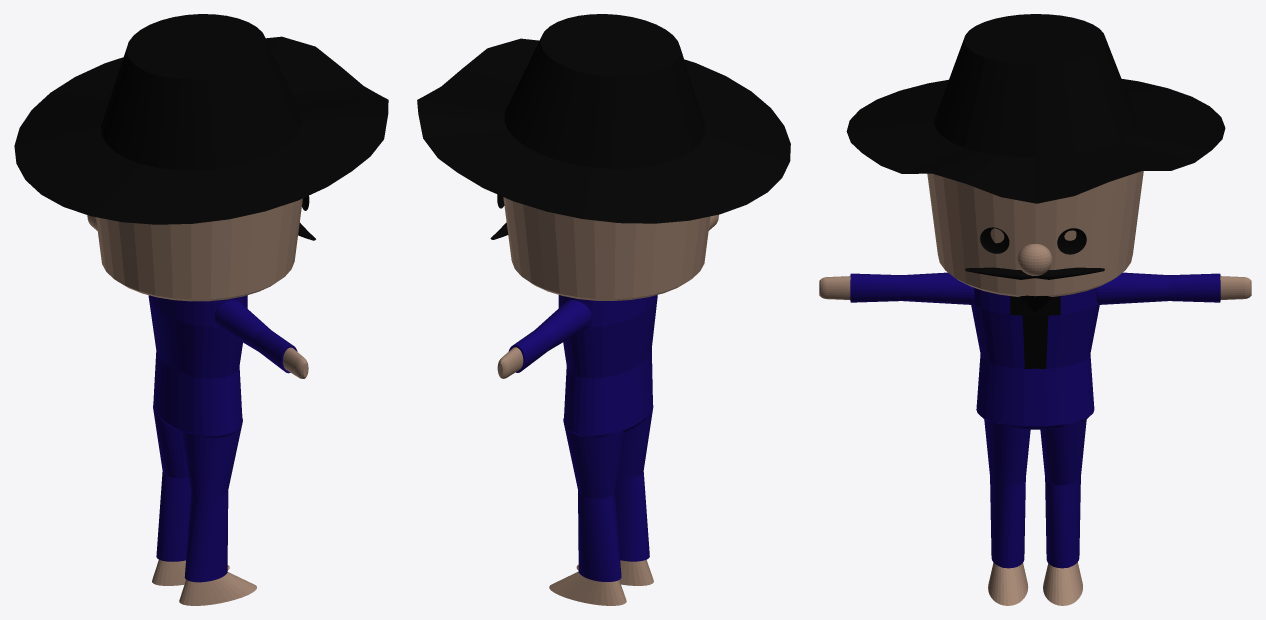
Rendered from blue_goatee_stenston.fbx.
3 views of the same model, side by side, from view 1: azimuth 30°, elevation 25°; view 2: azimuth 150°, elevation 25°; view 3: azimuth 270°, elevation 25° (orthographic).
Parts seen in each view (by area): view 1: Cylinder.015, Headd.002, Cylinder.049, Cylinder.052, Cylinder.053, Cylinder.050, Cylinder.047, Cylinder.038, Cylinder.055; view 2: Cylinder.015, Headd.002, Cylinder.049, Cylinder.053, Cylinder.052, Cylinder.051, Cylinder.038, Cylinder.047, Cylinder.056; view 3: Cylinder.015, Headd.002, Cylinder.049, Cylinder.053, Cylinder.052, Cylinder.051, Cylinder.050, Cylinder.047, Cylinder.038, Cylinder.014, Eyes.007, Sphere.002 (+2 smaller).
Part boxes in pixels (x1,y1,x2,y2): Cylinder.015: [14, 14, 388, 224]; Headd.002: [96, 198, 302, 301]; Cylinder.049: [148, 295, 247, 438]; Cylinder.052: [181, 418, 242, 582]; Cylinder.053: [153, 405, 191, 561]; Cylinder.050: [214, 300, 297, 373]; Cylinder.047: [179, 572, 256, 605]; Cylinder.038: [152, 559, 229, 585]; Cylinder.055: [283, 347, 308, 378]; Cylinder.015: [417, 14, 790, 223]; Headd.002: [503, 197, 710, 300]; Cylinder.049: [558, 295, 657, 437]; Cylinder.053: [563, 418, 624, 581]; Cylinder.052: [615, 405, 653, 561]; Cylinder.051: [508, 300, 591, 372]; Cylinder.038: [549, 571, 626, 605]; Cylinder.047: [576, 559, 653, 585]; Cylinder.056: [497, 347, 523, 378]; Cylinder.015: [846, 14, 1225, 203]; Headd.002: [927, 171, 1143, 296]; Cylinder.049: [971, 287, 1099, 429]; Cylinder.053: [1040, 419, 1086, 568]; Cylinder.052: [984, 420, 1030, 568]; Cylinder.051: [1096, 272, 1220, 304]; Cylinder.050: [850, 272, 974, 304]; Cylinder.047: [988, 562, 1028, 605]; Cylinder.038: [1043, 562, 1082, 605]; Cylinder.014: [965, 267, 1104, 279]; Eyes.007: [980, 227, 1086, 254]; Sphere.002: [1017, 244, 1052, 275].
Size of the model in its own units: 301 by 484 by 346.
